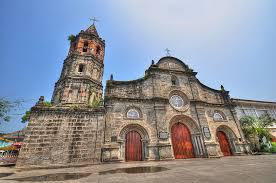barasoain_church_malolos_bulacan: (15, 16, 248, 159)
